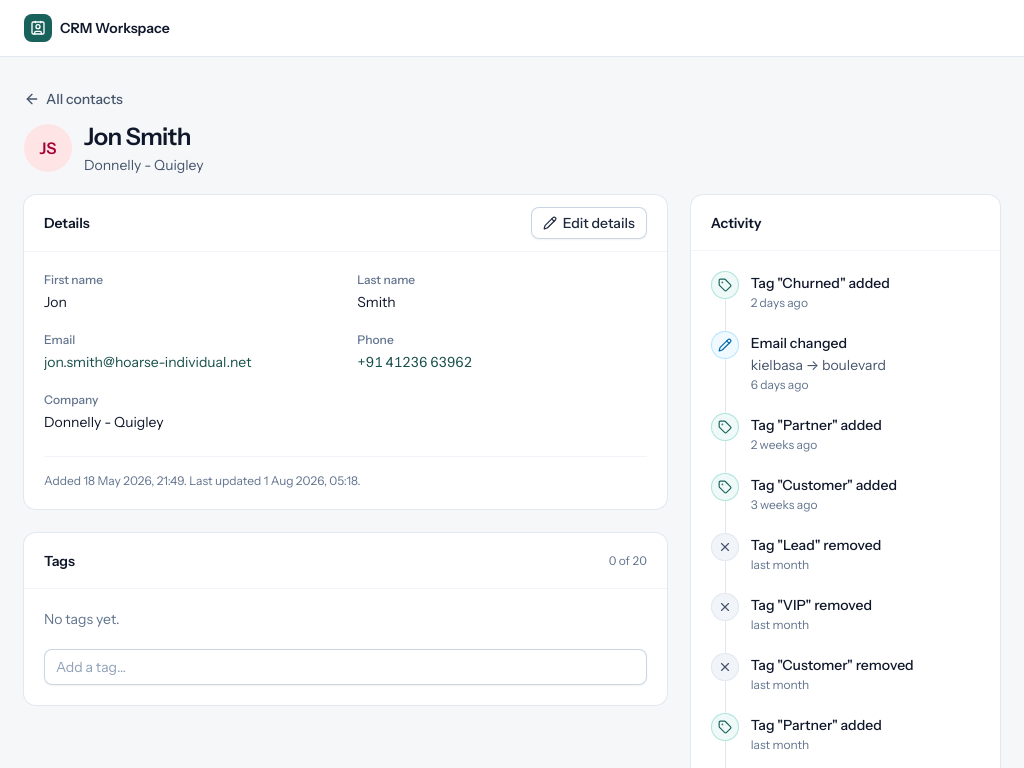
Test: ConflictDialog flow › shows my value against the latest saved value
Click the button "Edit details": (589, 223) [531,207,647,239]
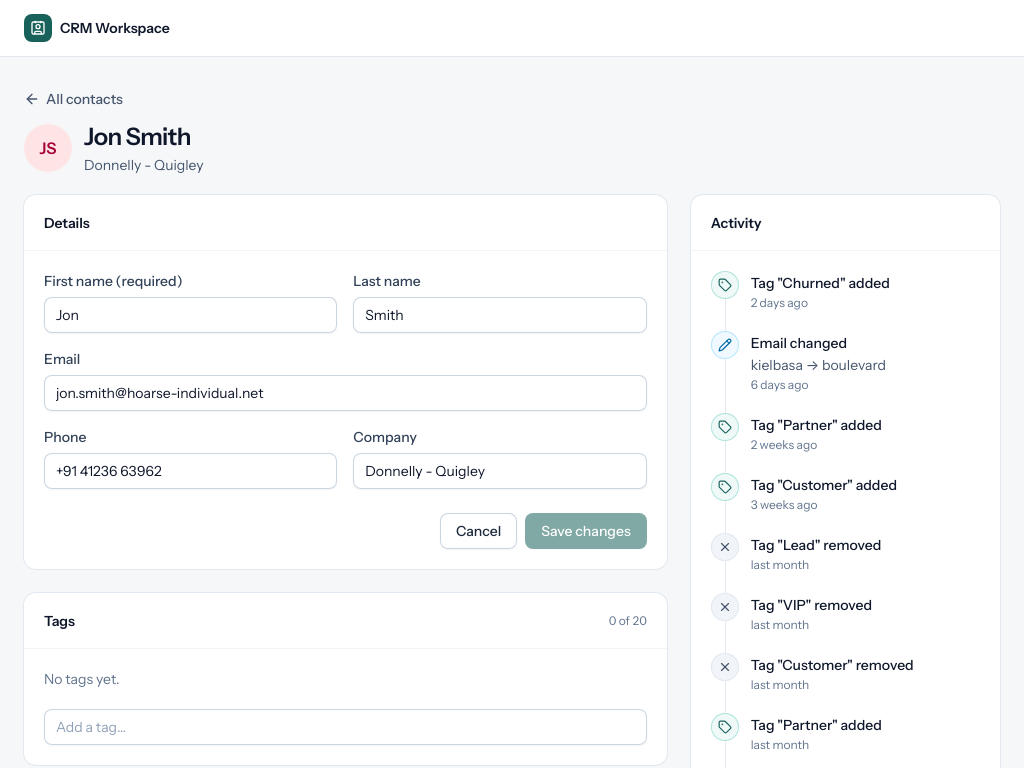
Replace the text in the field labelled "Email" with "mine@example.com": (345, 393) [44,375,647,411]
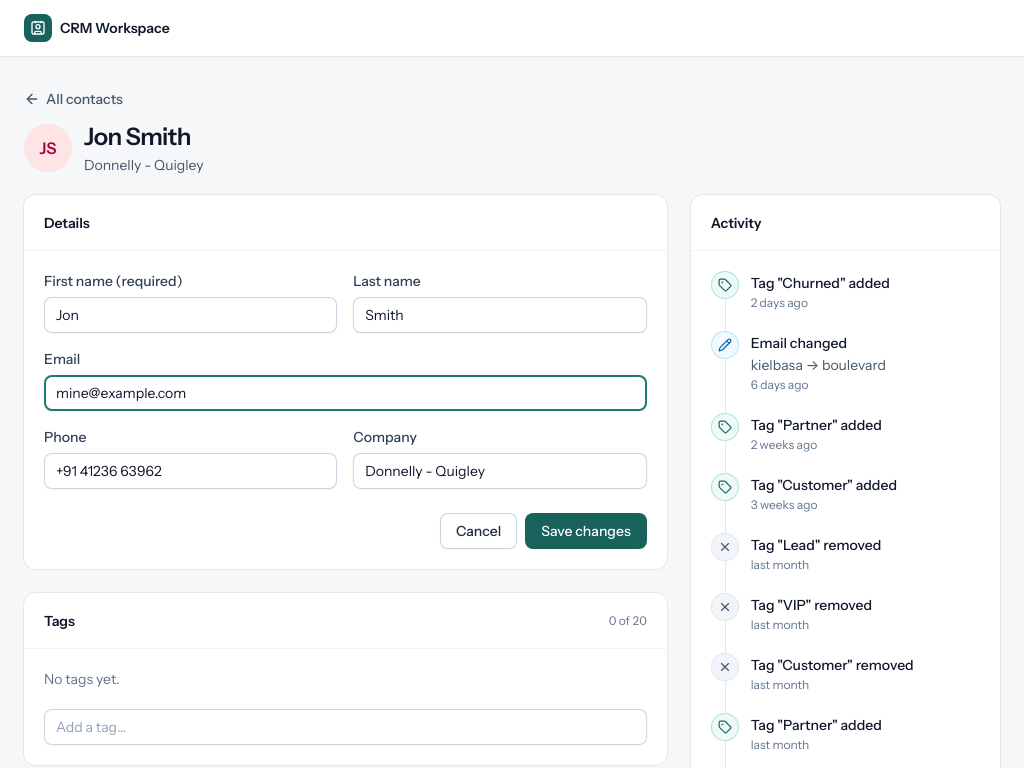
Click the button "Save changes": (586, 531) [525,513,647,549]
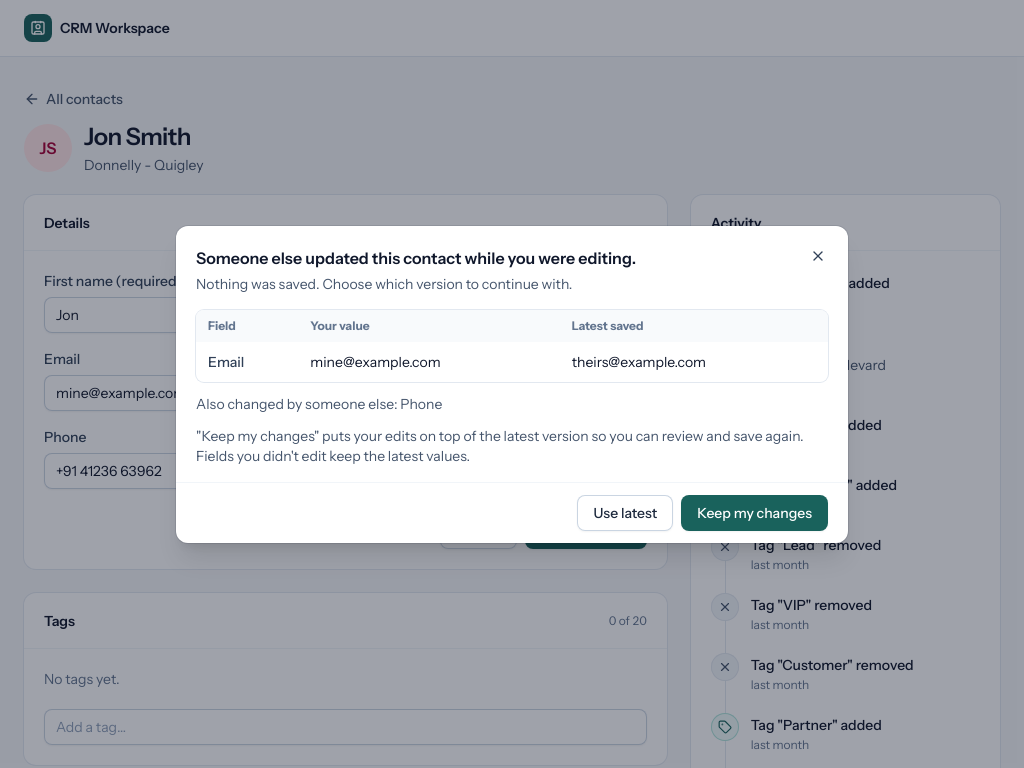
Check: the text "mine@example.com" is shown, box [298,342,560,382]
Check: the text "theirs@example.com" is shown, box [560,342,828,382]
Check: the text "Also changed by someone else: Phone" is shown, box [196,394,442,412]
